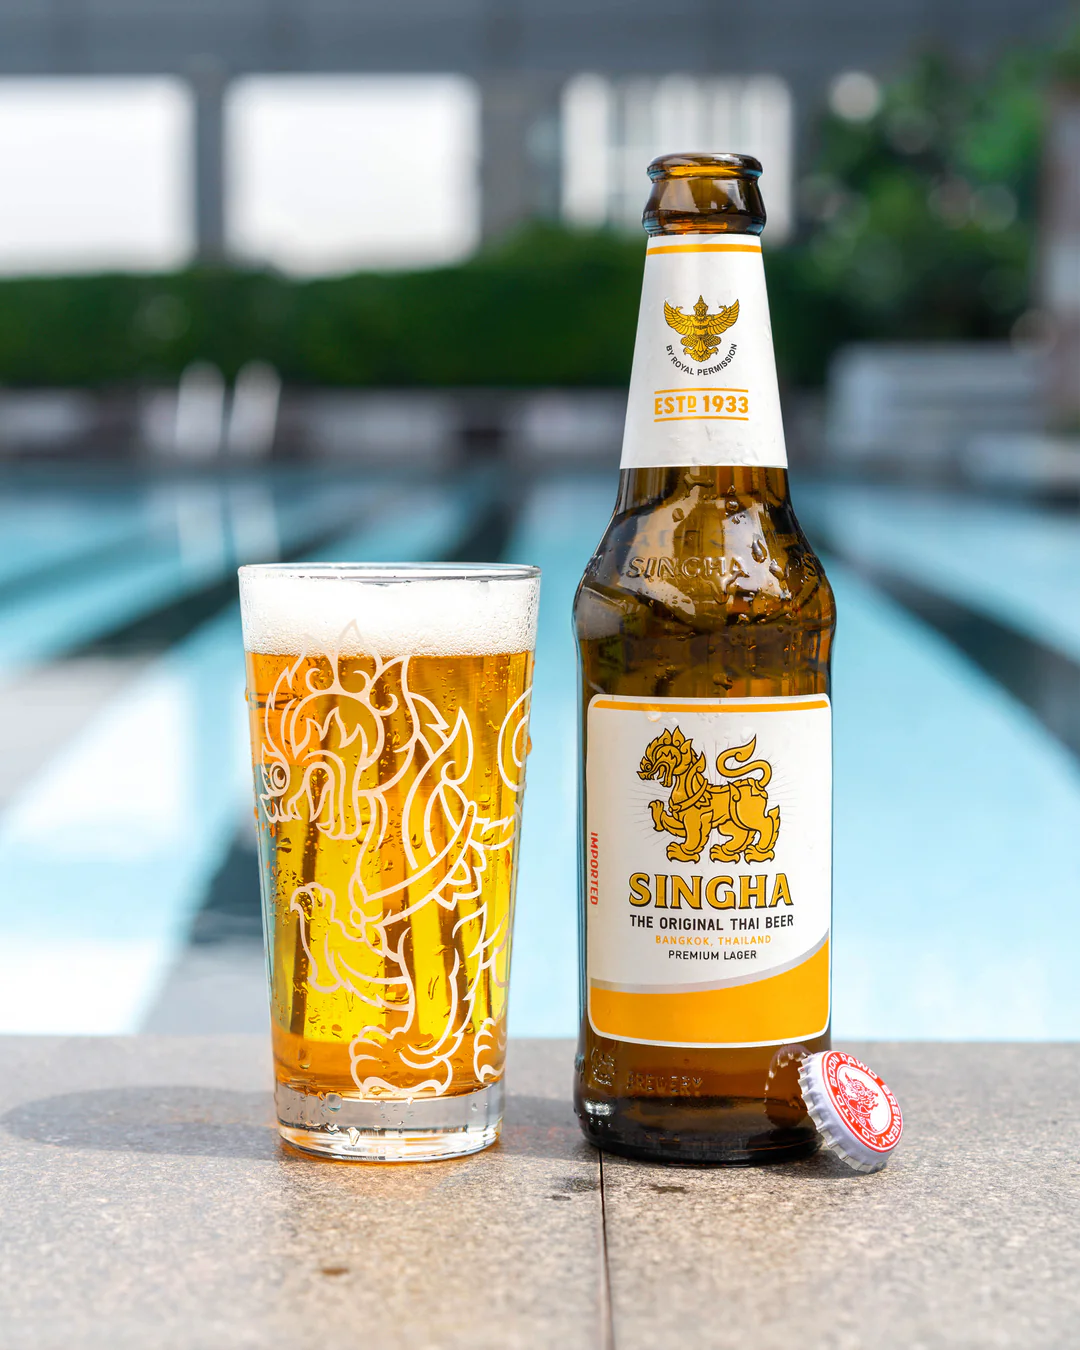glass_bottle: (557, 141, 885, 1180)
